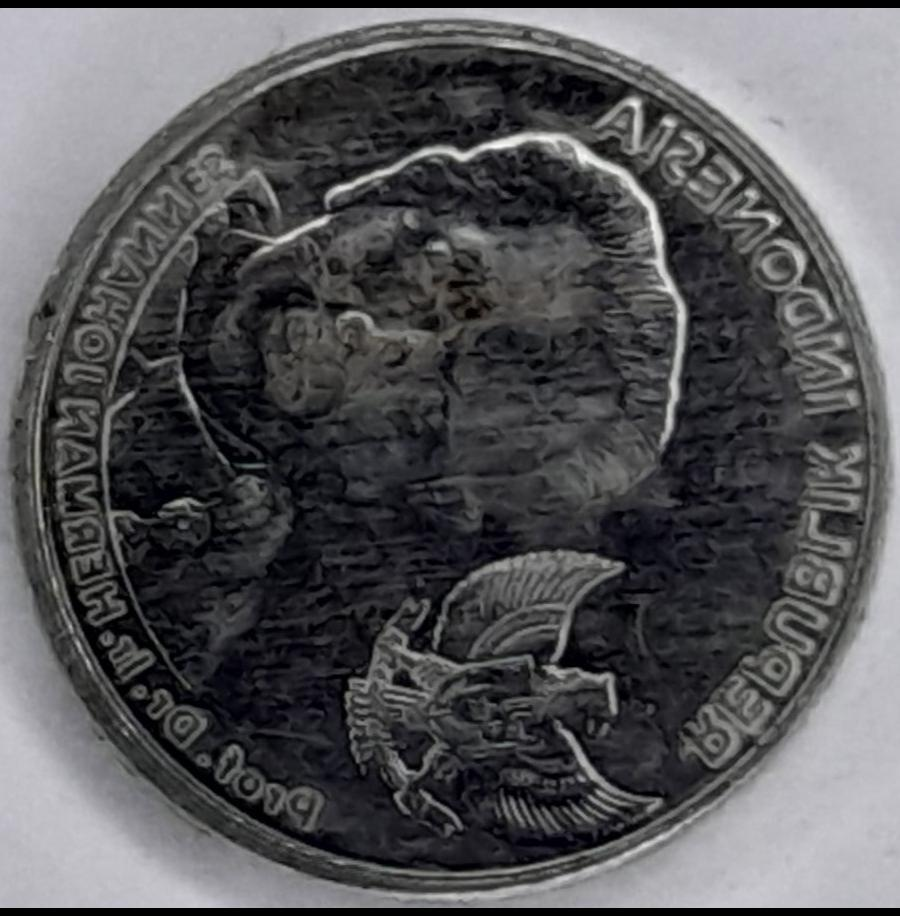coin_100_e2016: (4, 14, 894, 898)
